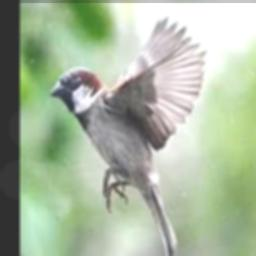Sparrow: (50, 14, 207, 256)
